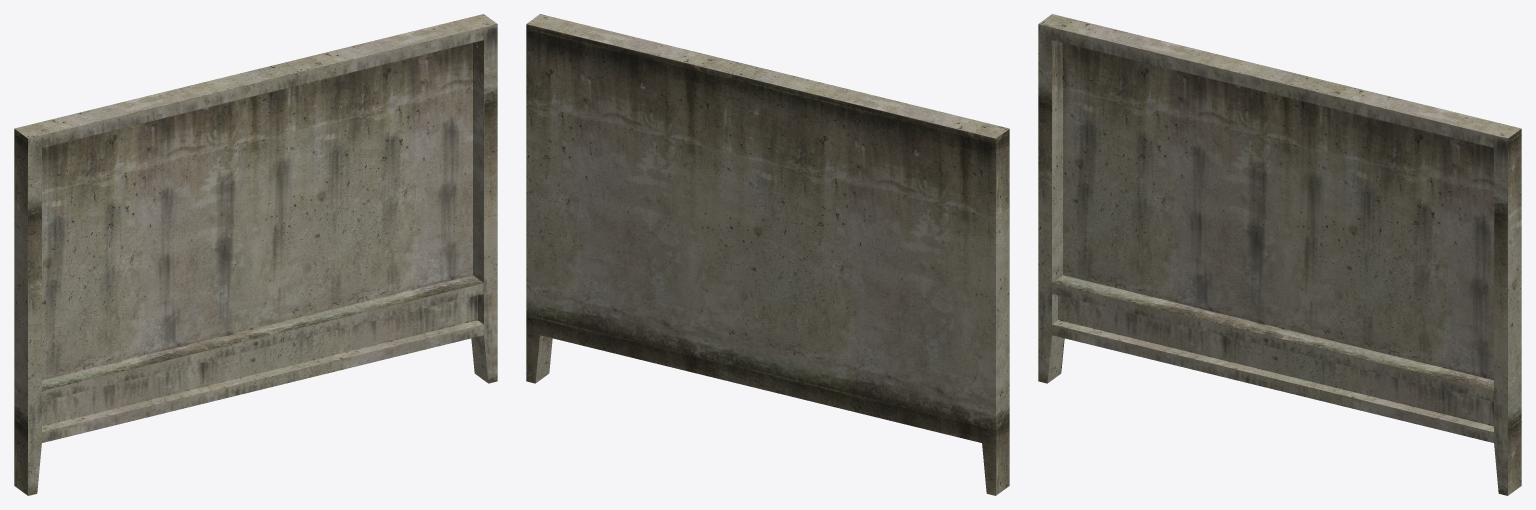
The model's file is fence0.obj.
3 views of the same model, side by side, from view 1: azimuth 30°, elevation 25°; view 2: azimuth 150°, elevation 25°; view 3: azimuth 330°, elevation 25° (orthographic).
Parts seen in each view (by area): view 1: low_meshId0_name; view 2: low_meshId0_name; view 3: low_meshId0_name.
Boxes of the visible parts, left/top/right/bottom form: low_meshId0_name: left=14, top=14, right=497, bottom=495; low_meshId0_name: left=526, top=14, right=1009, bottom=495; low_meshId0_name: left=1038, top=14, right=1521, bottom=495.
Bounding box in the file's own units: 5.27 × 3.83 × 0.2694.
Materials: 1 (1 with a texture image).
